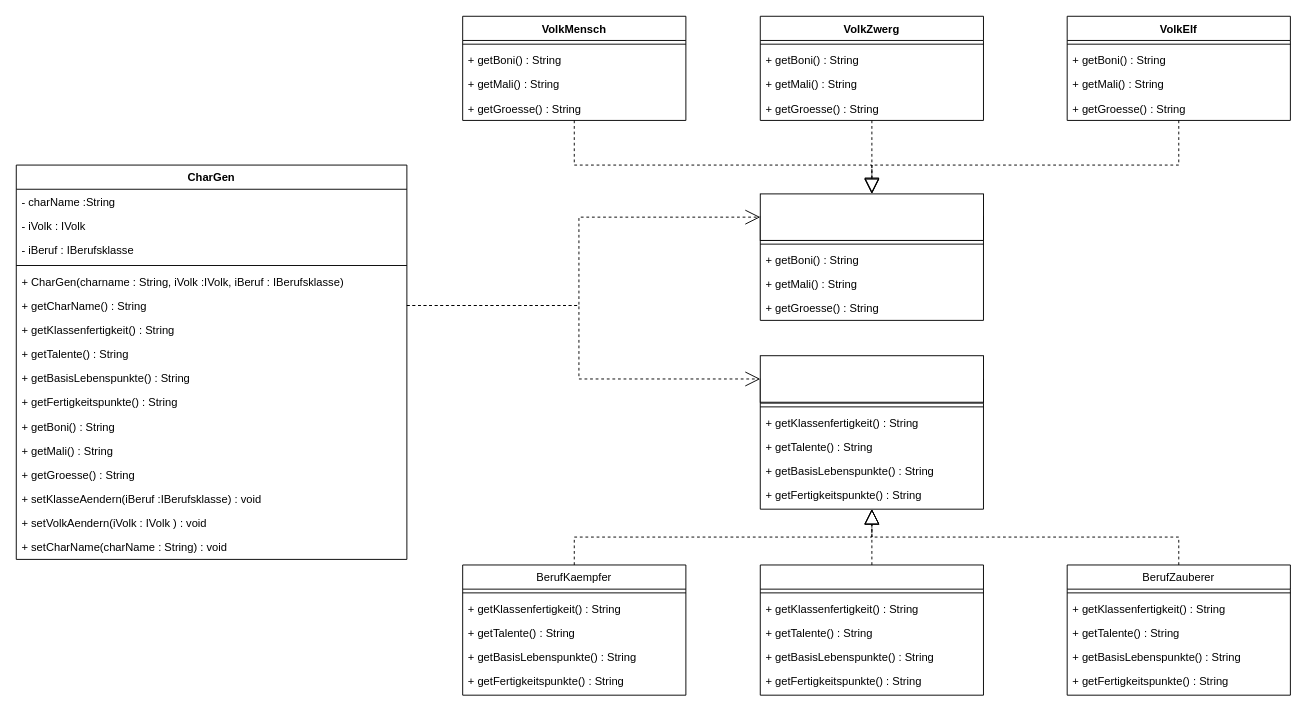
Image size: 1307x712. Some labels were removed from this diagram. Each missing label, with the box of its shape:
BerufSchurke: (759, 564, 983, 695)
Classname: (759, 215, 983, 320)
«interface» IBerufsklasse: (759, 355, 983, 402)
«interface» IVolk: (759, 193, 983, 240)
